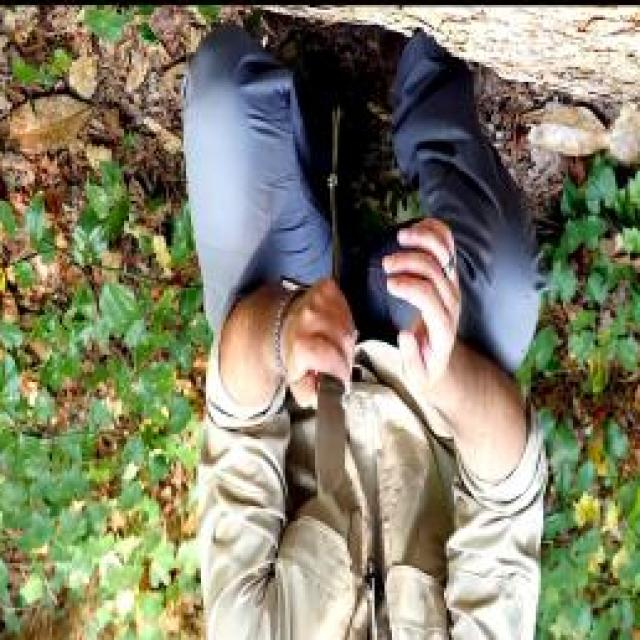knife: (295, 314, 359, 506)
